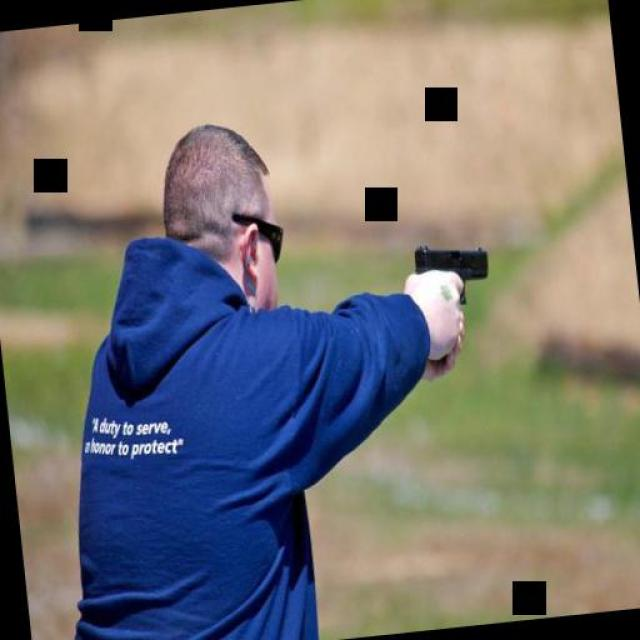gun: (405, 232, 495, 316)
